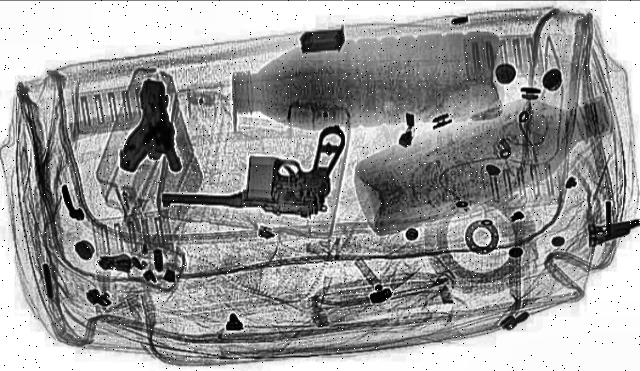Gun: (160, 110, 356, 220), (104, 78, 182, 172)
